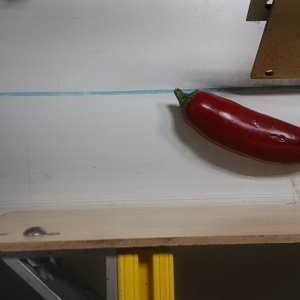Cut Point: (174, 86, 208, 124)
